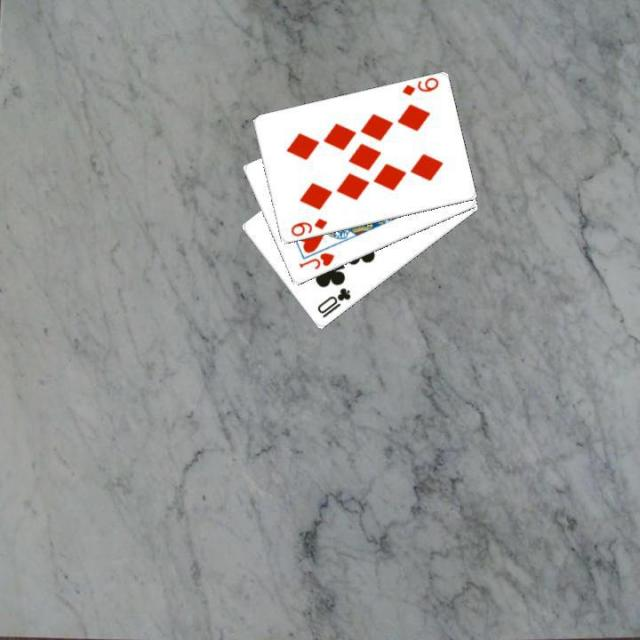10C: (313, 284, 353, 320)
9D: (286, 214, 329, 238), (398, 74, 440, 98)
JH: (295, 249, 336, 271)
